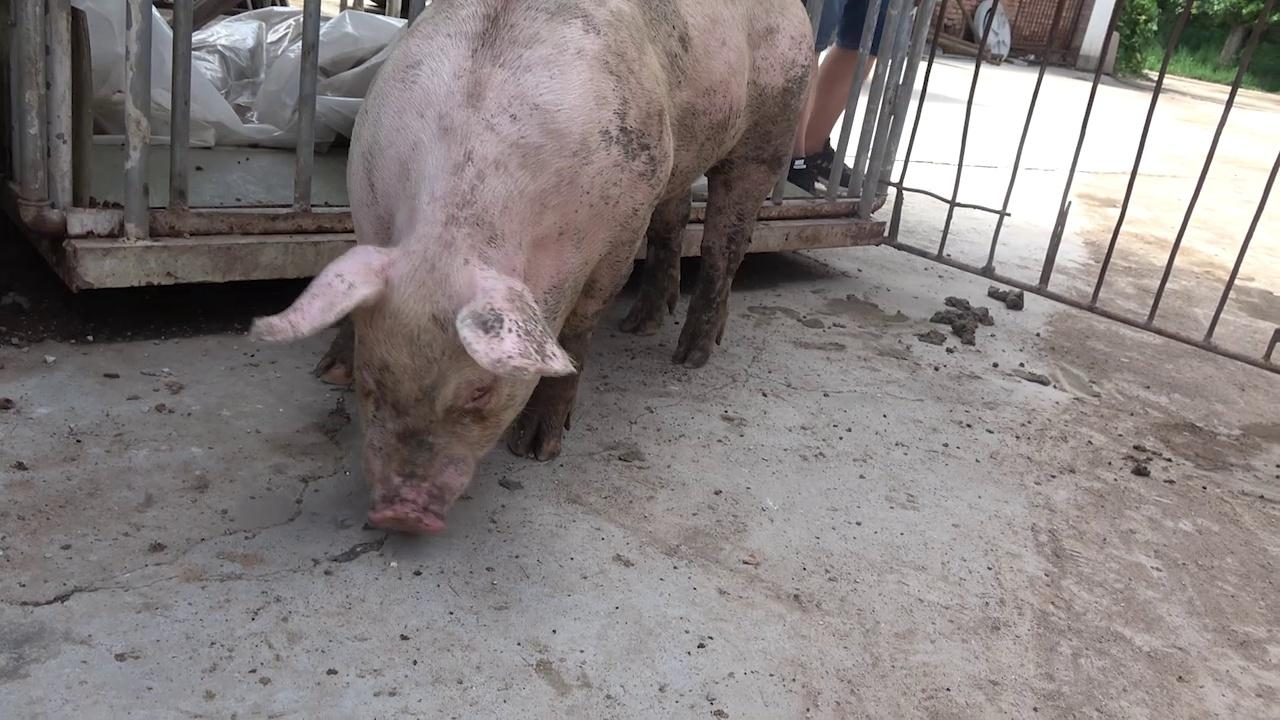Face: (243, 235, 582, 544)
